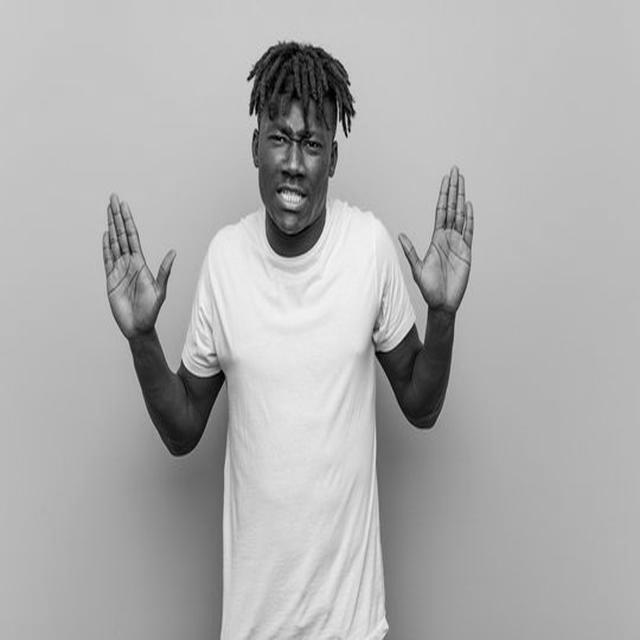Disgust: (257, 99, 332, 237)
